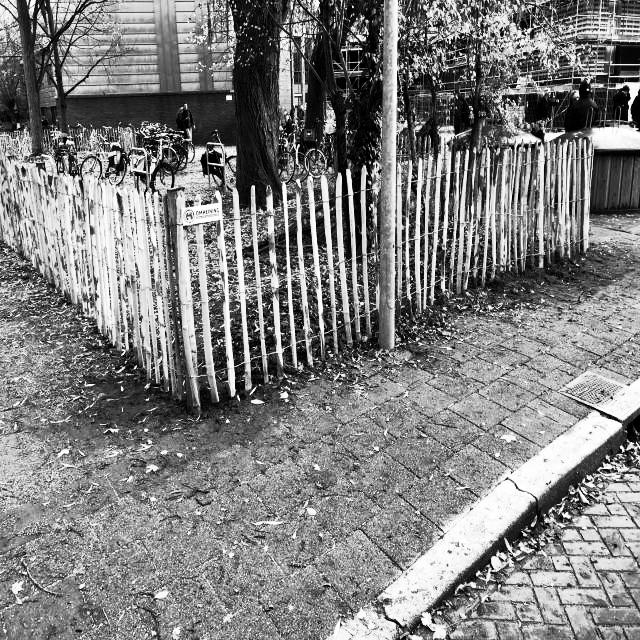fences: (407, 158, 608, 272), (234, 202, 371, 344)
